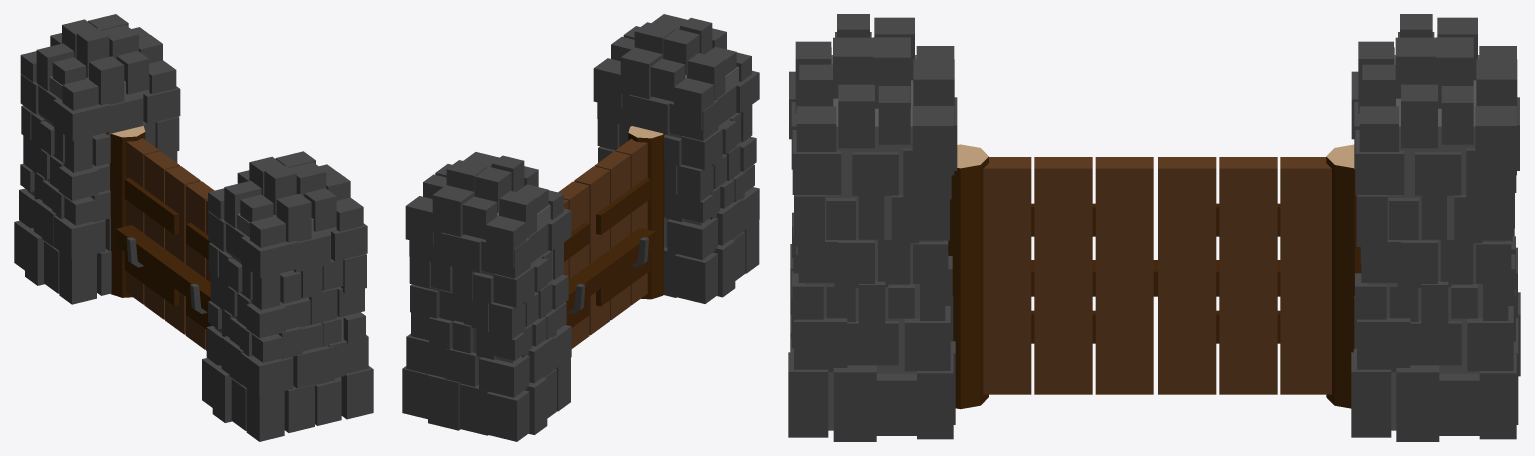
File: Gate.fbx
The picture shows the model from 3 angles, left to right: view 1: azimuth 30°, elevation 25°; view 2: azimuth 150°, elevation 25°; view 3: azimuth 270°, elevation 25°; orthographic projection. The views are drawn at different scales.
Parts seen in each view (by area): view 1: Columns, LeftGate, RightGate, Prop; view 2: Columns, RightGate, LeftGate, Prop; view 3: Columns, RightGate, LeftGate, Prop.
Boxes of the visible parts, box(x1,y1,x2,y2) form: Columns: box(14, 14, 373, 441); LeftGate: box(109, 125, 200, 334); RightGate: box(185, 181, 214, 350); Prop: box(116, 225, 210, 312); Columns: box(402, 14, 759, 441); RightGate: box(574, 126, 664, 335); LeftGate: box(558, 181, 589, 348); Prop: box(566, 227, 655, 312); Columns: box(788, 14, 1520, 441); RightGate: box(948, 144, 1153, 409); LeftGate: box(1158, 144, 1361, 408); Prop: box(1031, 260, 1280, 296).
Size of the model in its own units: 300 by 580 by 1041.
